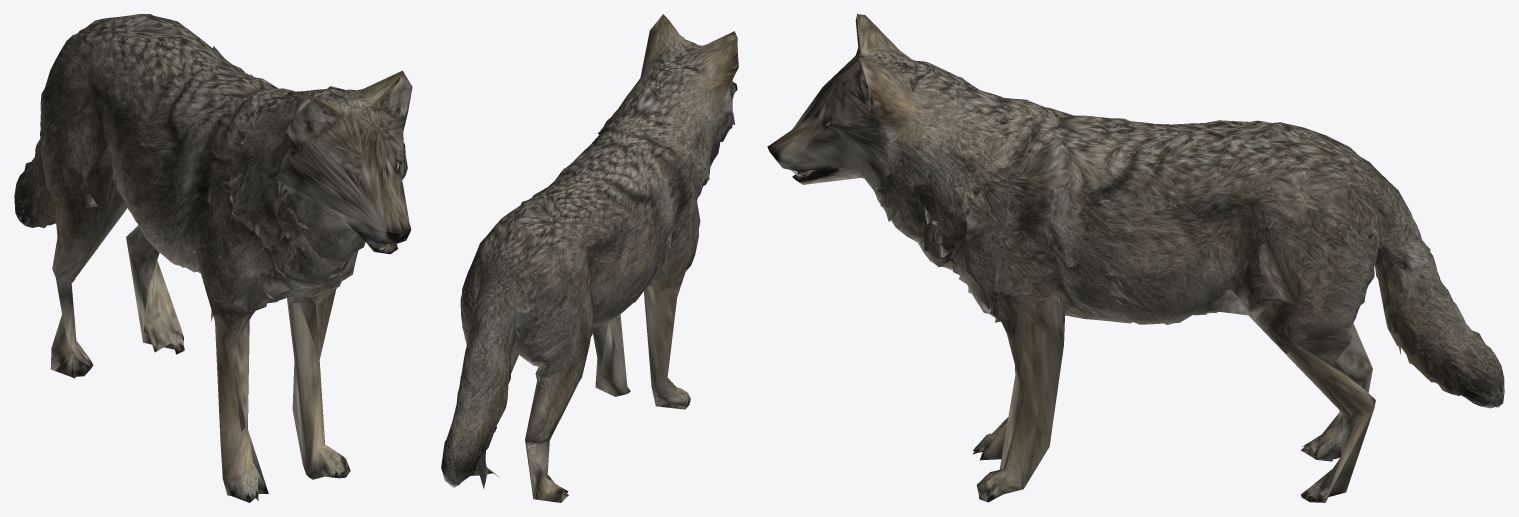
File: wolf.glb
3 views of the same model, side by side, from view 1: azimuth 30°, elevation 25°; view 2: azimuth 150°, elevation 25°; view 3: azimuth 270°, elevation 25° (orthographic). The views are drawn at different scales.
Size of the model in its own units: 0.4415 by 1.25 by 1.9.
Materials: 1 (1 with a texture image).
